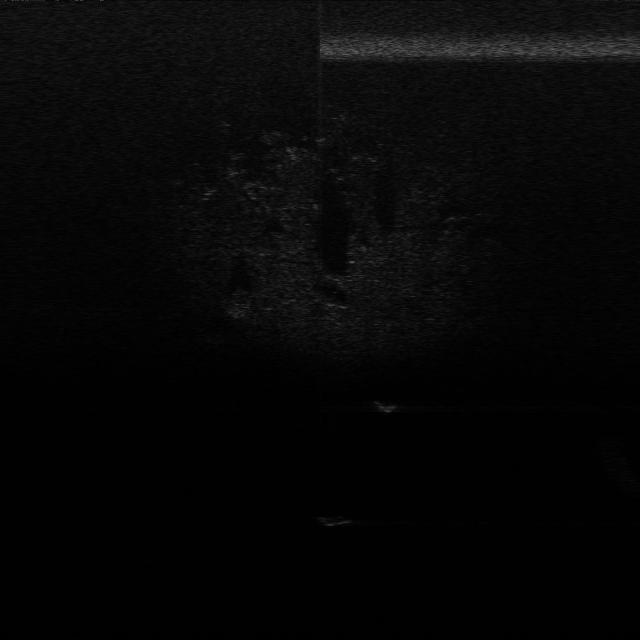cube: (313, 502, 363, 534)
square cage: (371, 392, 407, 416)
